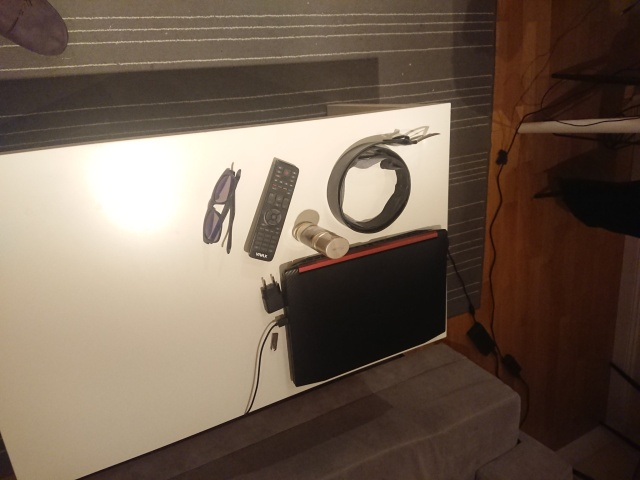Kotanyi Garlic Granules 70g: (290, 220, 351, 261)
